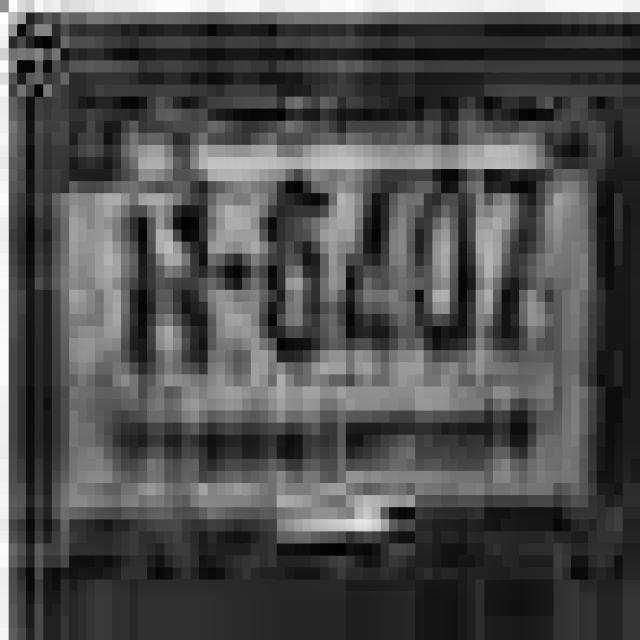license-plate: (54, 150, 611, 560)
